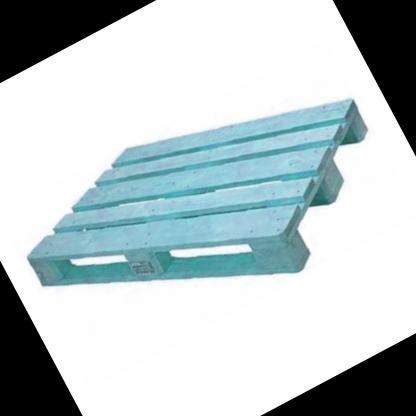BoxFace: (23, 96, 374, 291)
